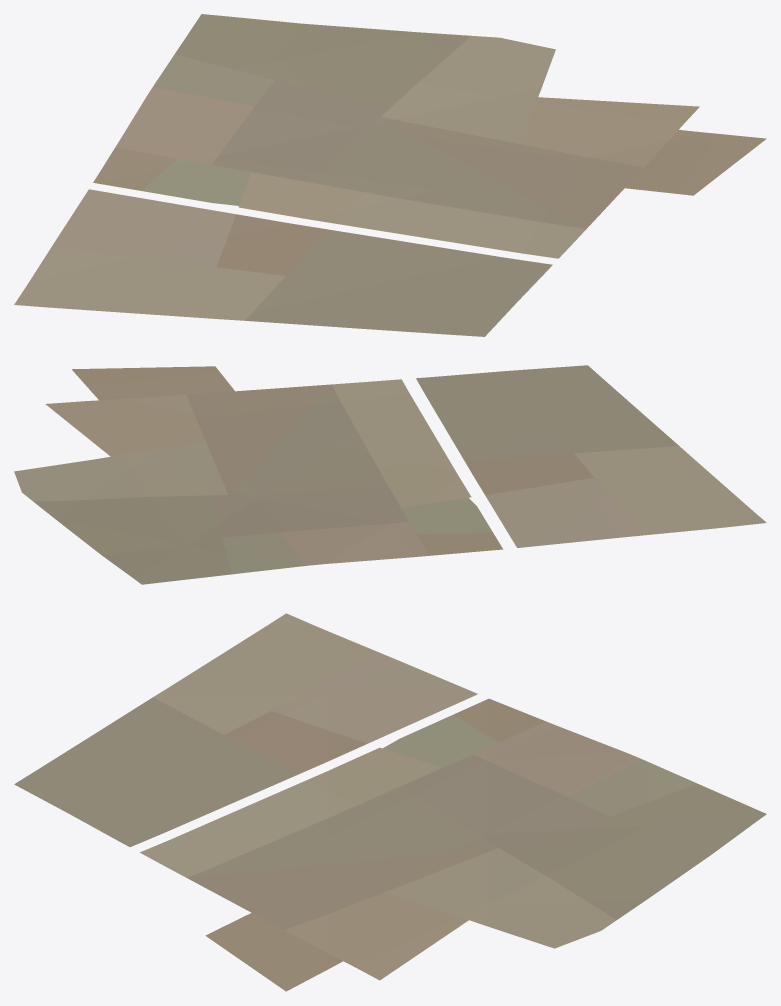
File: farm_26_16_soil.glb
3 views of the same model, one above another, from view 1: azimuth 30°, elevation 25°; view 2: azimuth 150°, elevation 25°; view 3: azimuth 270°, elevation 25° (orthographic). The views are drawn at different scales.
Visible parts, largest first — view 1: geometry_0; view 2: geometry_0; view 3: geometry_0.
Part boxes in pixels (box(x1,y1,x2,y2)): geometry_0: box(14, 14, 766, 336); geometry_0: box(14, 365, 766, 584); geometry_0: box(14, 613, 766, 991).
Bounding box in the file's own units: 428 × 13.59 × 377.
